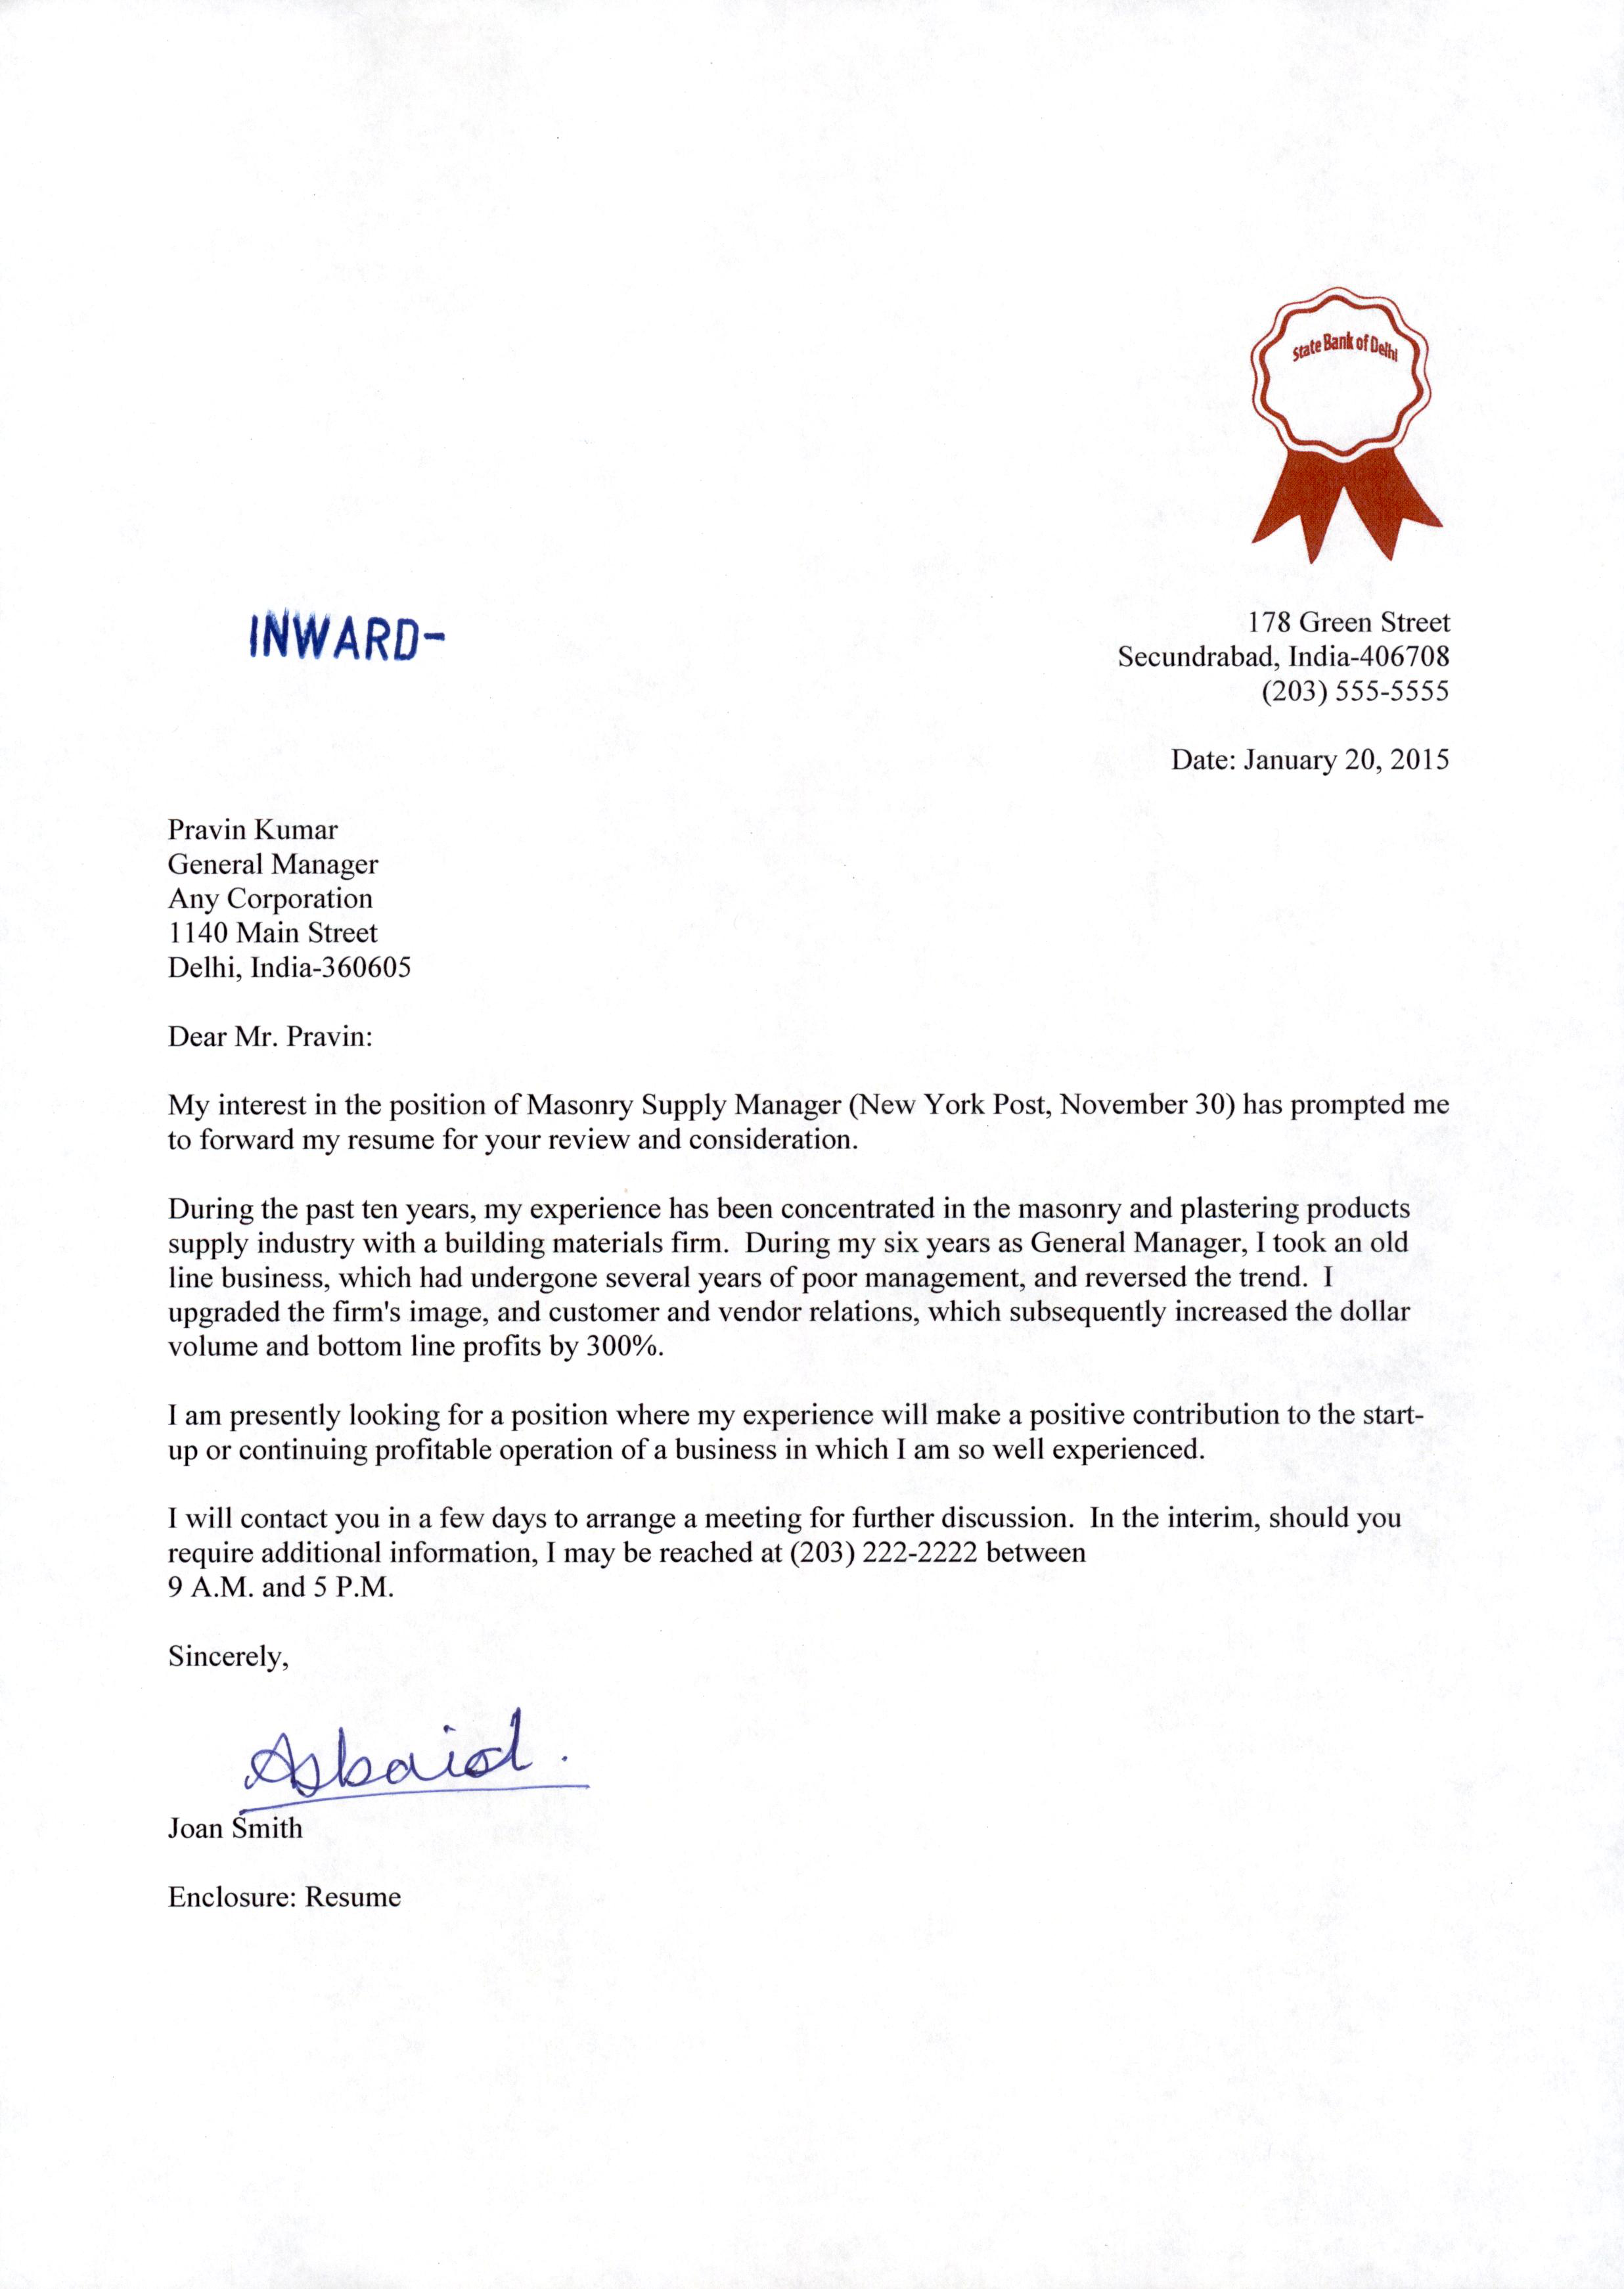Signature: (232, 1698, 596, 1820)
